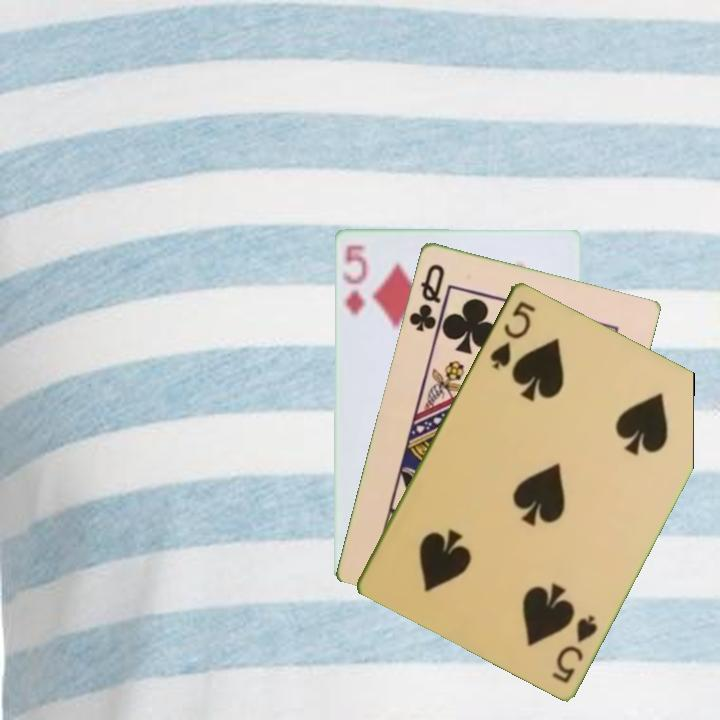5d: (339, 241, 369, 318)
5s: (486, 297, 539, 372), (548, 610, 601, 685)
Qc: (405, 259, 447, 335)
